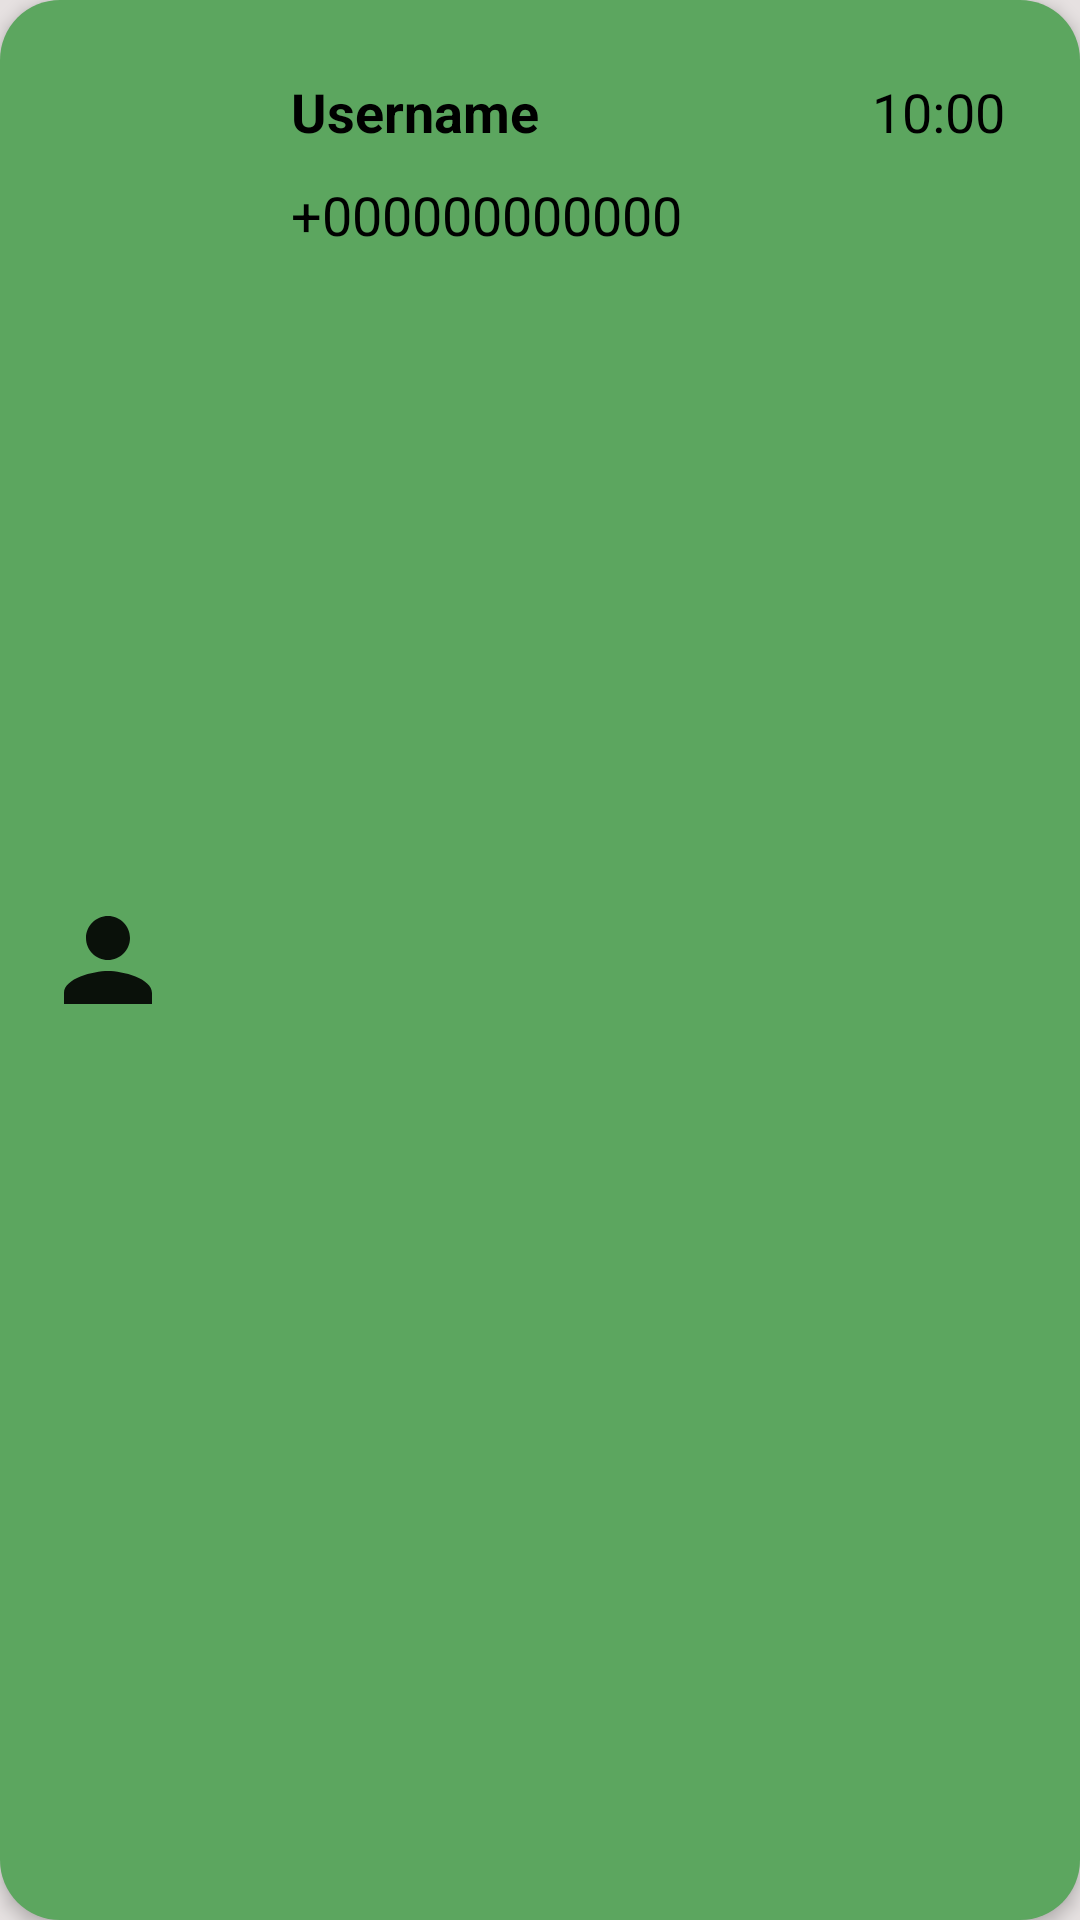

Icons on this 1080px x 1920px Android screen, each with its box as (x1=x1, y1=y1, x2=x2, y2=y2):
username: (x1=64, y1=916, x2=152, y2=1004)
